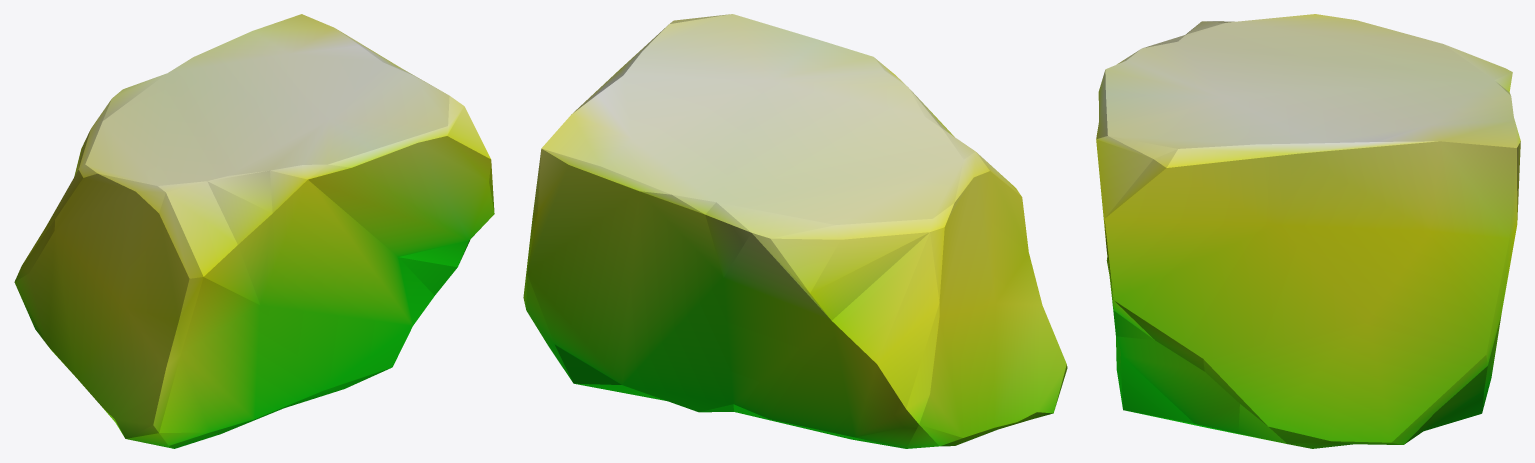
Rendered from rock_solo_01_LOD1.fbx.
3 renders of one model, left to right at view 1: azimuth 30°, elevation 25°; view 2: azimuth 150°, elevation 25°; view 3: azimuth 270°, elevation 25°, orthographic. The views are drawn at different scales.
Visible parts, largest first — view 1: LOD1; view 2: LOD1; view 3: LOD1.
Part boxes in pixels (x1,y1,x2,y2): LOD1: [14, 14, 494, 448]; LOD1: [523, 14, 1067, 448]; LOD1: [1096, 14, 1520, 448].
Size of the model in its own units: 37607 by 27300 by 30071.
